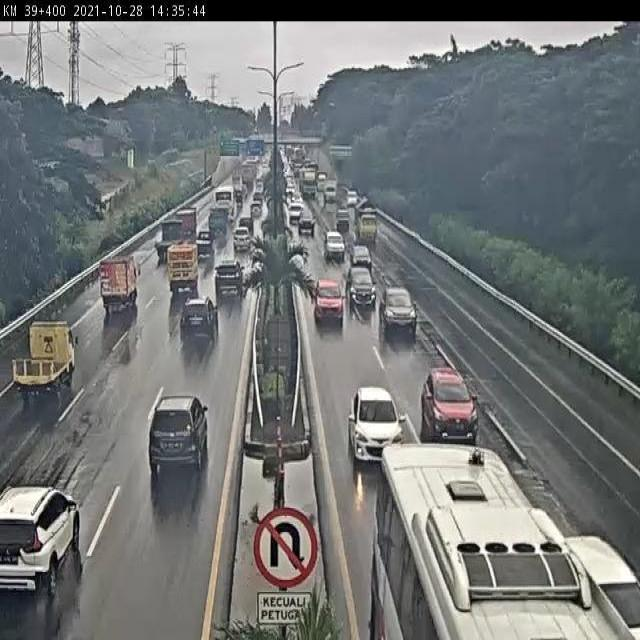big bus: (381, 445, 561, 640)
big truck: (351, 207, 390, 252)
car: (3, 473, 83, 592), (563, 530, 640, 640), (346, 386, 414, 471), (149, 393, 214, 479), (423, 367, 482, 449), (308, 273, 348, 332), (379, 286, 423, 338), (176, 299, 220, 344), (346, 266, 381, 314), (216, 251, 248, 300), (315, 227, 351, 268), (348, 245, 379, 275), (196, 223, 220, 260), (228, 227, 256, 254), (298, 214, 322, 242), (285, 200, 302, 225)
small truck: (9, 321, 84, 404), (93, 254, 146, 318), (162, 245, 204, 292), (151, 215, 192, 260)
